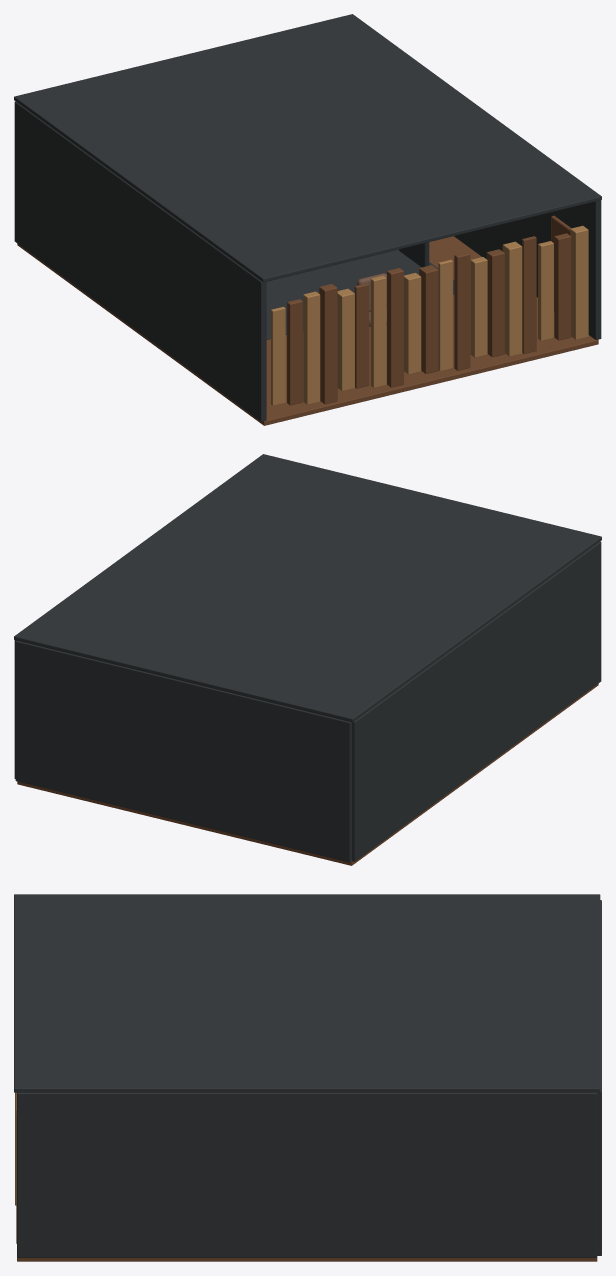
Rendered from mix_room_001.glb.
3 views of the same model, one above another, from view 1: azimuth 30°, elevation 25°; view 2: azimuth 150°, elevation 25°; view 3: azimuth 270°, elevation 25° (orthographic). The views are drawn at different scales.
Visible parts, largest first — view 1: ceiling, left_acoustic_treatment, wood_floor, right_acoustic_treatment, mix_room_rug, rear_diffuser_04, rear_diffuser_15, rear_diffuser_19, rear_diffuser_08, rear_diffuser_03, rear_diffuser_12, rear_diffuser_10 (+12 smaller); view 2: ceiling, front_acoustic_wall, left_acoustic_treatment, wood_floor; view 3: ceiling, right_acoustic_treatment, wood_floor, front_acoustic_wall.
Part boxes in pixels (left/top/right/bottom): ceiling: left=14, top=14, right=601, bottom=282; left_acoustic_treatment: left=14, top=101, right=266, bottom=421; wood_floor: left=17, top=236, right=598, bottom=425; right_acoustic_treatment: left=454, top=200, right=601, bottom=339; mix_room_rug: left=266, top=249, right=454, bottom=339; rear_diffuser_04: left=319, top=284, right=337, bottom=404; rear_diffuser_15: left=502, top=241, right=522, bottom=356; rear_diffuser_19: left=570, top=225, right=588, bottom=339; rear_diffuser_08: left=387, top=268, right=403, bottom=387; rear_diffuser_03: left=303, top=291, right=320, bottom=404; rear_diffuser_12: left=454, top=252, right=470, bottom=370; rear_diffuser_10: left=419, top=265, right=438, bottom=373; ceiling: left=14, top=454, right=601, bottom=722; front_acoustic_wall: left=15, top=640, right=351, bottom=862; left_acoustic_treatment: left=352, top=541, right=601, bottom=861; wood_floor: left=17, top=683, right=598, bottom=865; ceiling: left=14, top=894, right=600, bottom=1092; right_acoustic_treatment: left=17, top=1092, right=597, bottom=1257; wood_floor: left=17, top=1257, right=597, bottom=1261; front_acoustic_wall: left=597, top=900, right=601, bottom=1255.
Bounding box in the file's own units: 9.16 × 4.01 × 11.65.
